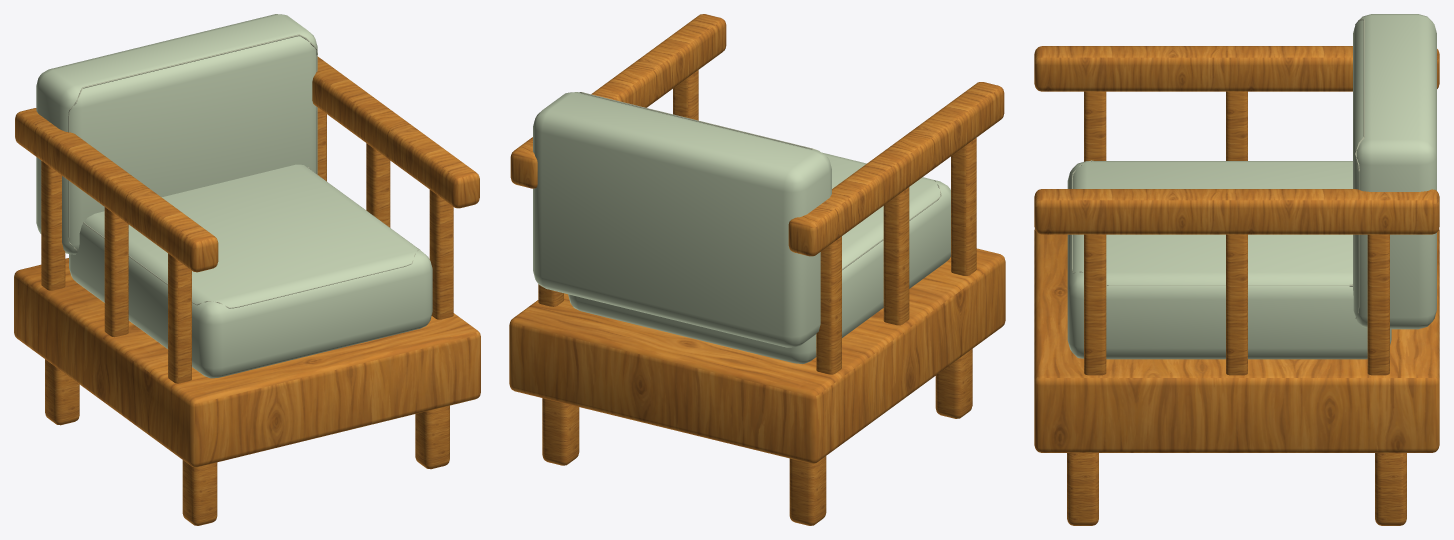
The model's file is slat-lounge-chair.glb.
3 renders of one model, left to right at view 1: azimuth 30°, elevation 25°; view 2: azimuth 150°, elevation 25°; view 3: azimuth 270°, elevation 25°, orthographic. The views are drawn at different scales.
Parts seen in each view (by area): view 1: slat-lounge-chair; view 2: slat-lounge-chair; view 3: slat-lounge-chair.
Part boxes in pixels (bbox=[...]): slat-lounge-chair: bbox=[14, 14, 480, 525]; slat-lounge-chair: bbox=[509, 14, 1005, 525]; slat-lounge-chair: bbox=[1034, 14, 1439, 525].
Size of the model in its own units: 0.76 by 0.85 by 0.82.
4 materials, 1 textured.
